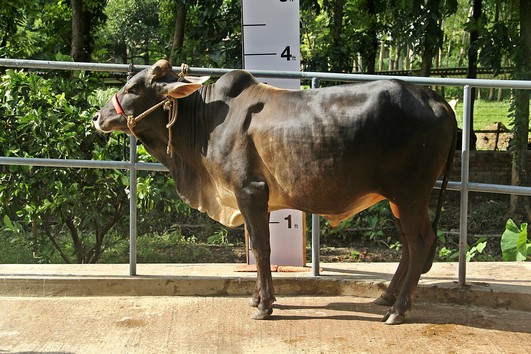cow: (87, 56, 462, 329)
